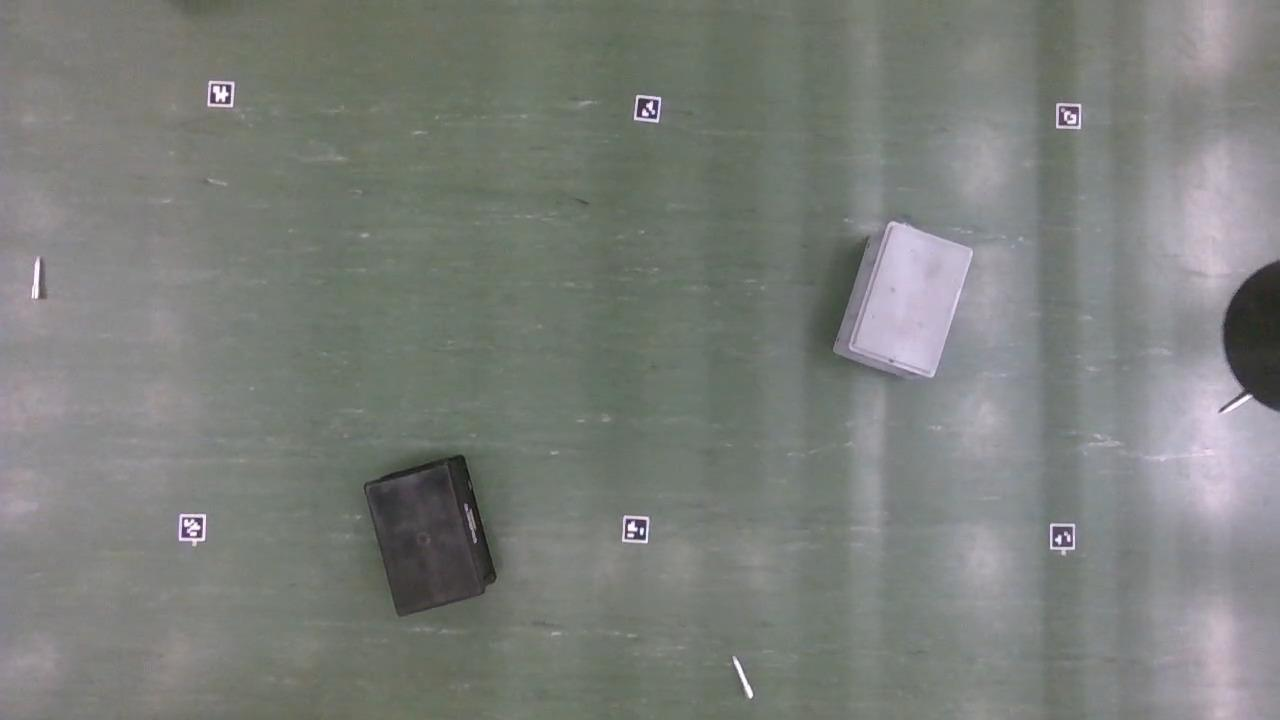probes: (734, 658, 753, 701), (1223, 393, 1250, 414), (32, 260, 42, 299)
rako: (832, 222, 972, 384), (365, 458, 496, 619)
